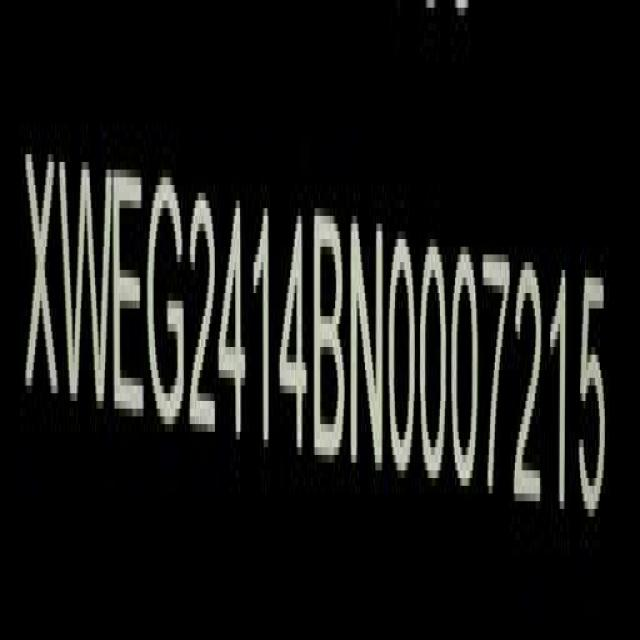0: (452, 242, 481, 493), (390, 225, 418, 480), (420, 240, 447, 488)
1: (253, 191, 273, 459), (554, 263, 572, 526)
2: (190, 185, 220, 450), (517, 253, 544, 518)
4: (280, 202, 310, 464), (218, 194, 248, 456)
5: (577, 261, 608, 528)
7: (485, 244, 511, 503)
B: (314, 212, 346, 468)
E: (113, 158, 146, 430)
G: (147, 166, 185, 440)
N: (352, 219, 384, 477)
W: (60, 144, 112, 426)
X: (23, 135, 60, 419)
